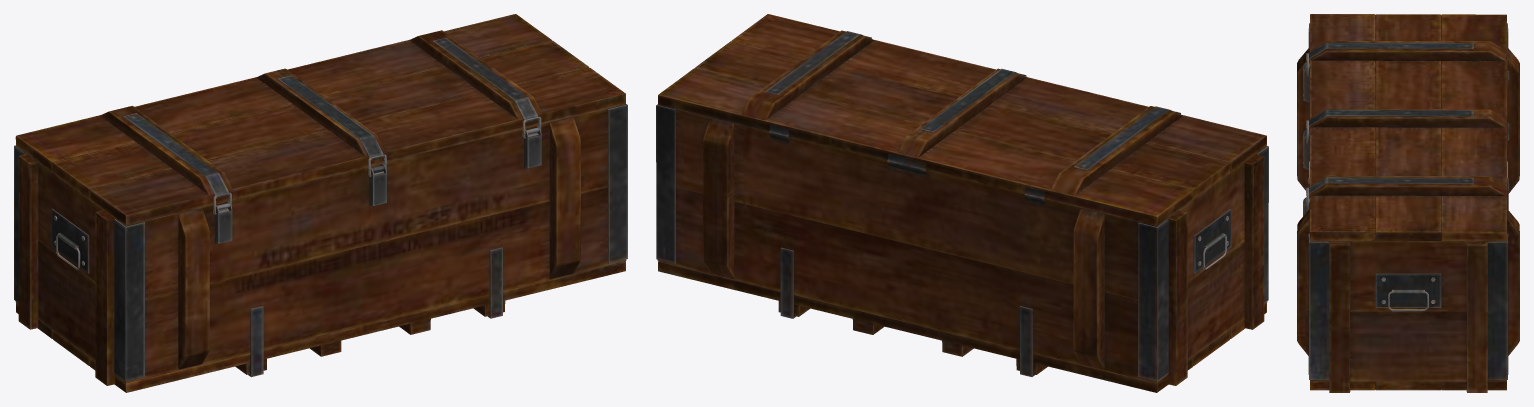
The model's file is wooden_military_crate.glb.
3 renders of one model, left to right at view 1: azimuth 30°, elevation 25°; view 2: azimuth 150°, elevation 25°; view 3: azimuth 270°, elevation 25°, orthographic. The views are drawn at different scales.
Parts seen in each view (by area): view 1: wooden_military_crate, wooden_military_crate_lid; view 2: wooden_military_crate, wooden_military_crate_lid; view 3: wooden_military_crate_lid, wooden_military_crate.
Boxes of the visible parts, x1=… form: wooden_military_crate: x1=14, y1=103, x2=627, y2=392; wooden_military_crate_lid: x1=15, y1=14, x2=625, y2=225; wooden_military_crate: x1=656, y1=104, x2=1268, y2=392; wooden_military_crate_lid: x1=658, y1=14, x2=1266, y2=225; wooden_military_crate_lid: x1=1306, y1=14, x2=1509, y2=240; wooden_military_crate: x1=1297, y1=23, x2=1519, y2=392.
Bounding box in the file's own units: 1.24 × 0.4645 × 0.5191.
1 material, 1 textured.
